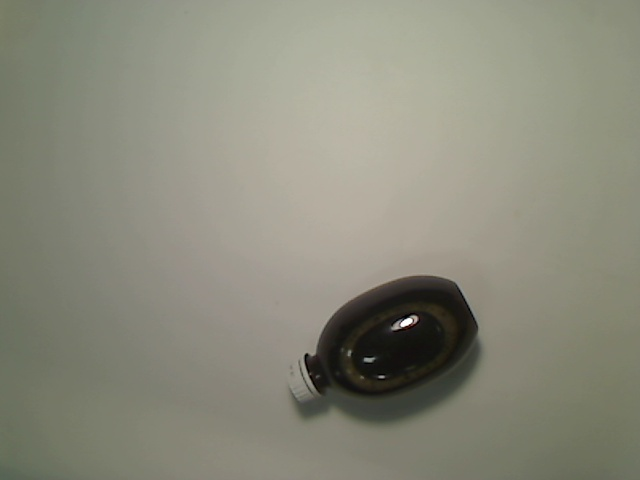plast_bottle: (283, 273, 481, 408)
